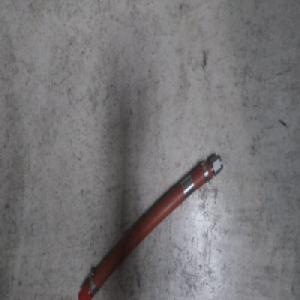Hose: (76, 149, 223, 300)
